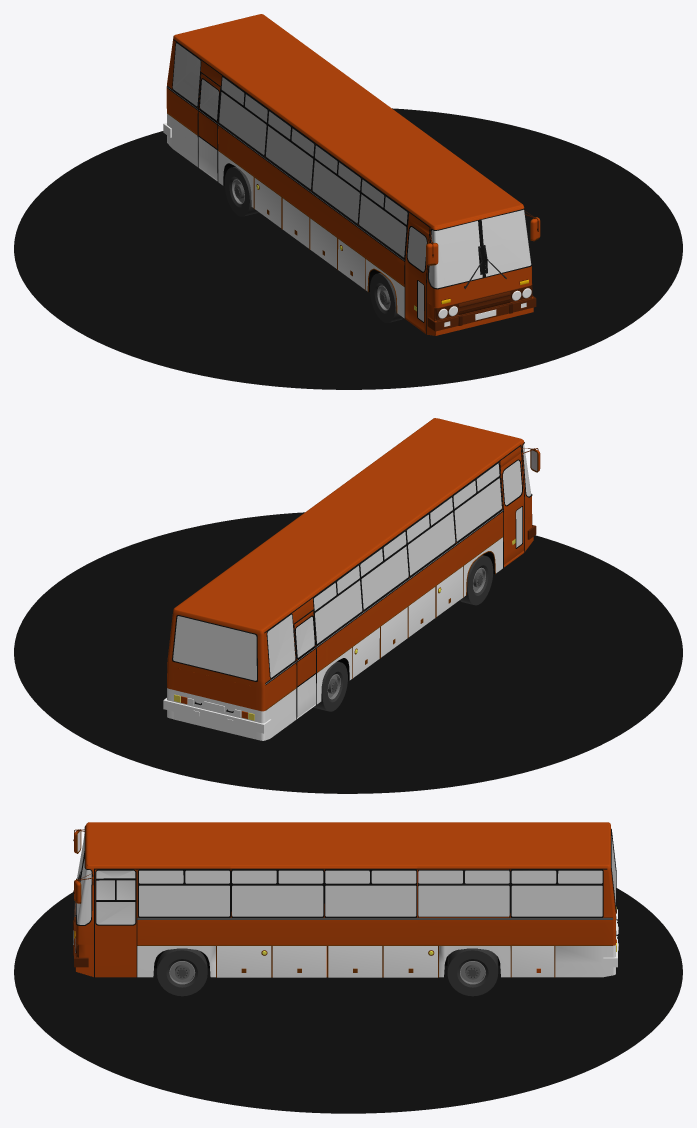
Rendered from Ikarus.fbx.
The picture shows the model from 3 angles, top to bottom: view 1: azimuth 30°, elevation 25°; view 2: azimuth 150°, elevation 25°; view 3: azimuth 270°, elevation 25°; orthographic projection.
Visible parts, largest first — view 1: Cylinder.002, Ikarus_new_body, ikarus_new_roof, ikarus_new_door, ikarus_new_door2, ikarus_new_wheel2, ikarus_new_wheel; view 2: Cylinder.002, Ikarus_new_body, ikarus_new_roof, ikarus_new_back, ikarus_new_door, ikarus_new_door2, ikarus_new_wheel2, ikarus_new_wheel; view 3: Cylinder.002, Ikarus_new_body, ikarus_new_roof, ikarus_new_wheel2, ikarus_new_wheel.
Boxes of the visible parts, x1,y1,x2,y2 form: Cylinder.002: (14, 108, 682, 389); Ikarus_new_body: (166, 36, 540, 335); ikarus_new_roof: (174, 14, 523, 226); ikarus_new_door: (405, 220, 428, 331); ikarus_new_door2: (198, 74, 220, 180); ikarus_new_wheel2: (224, 166, 258, 216); ikarus_new_wheel: (370, 273, 403, 322); Cylinder.002: (14, 512, 682, 793); Ikarus_new_body: (167, 440, 540, 740); ikarus_new_roof: (174, 418, 522, 631); ikarus_new_back: (163, 667, 271, 739); ikarus_new_door: (500, 453, 524, 564); ikarus_new_door2: (294, 611, 316, 717); ikarus_new_wheel2: (313, 661, 347, 711); ikarus_new_wheel: (459, 555, 493, 605); Cylinder.002: (14, 888, 682, 1113); Ikarus_new_body: (73, 823, 616, 977); ikarus_new_roof: (86, 822, 610, 866); ikarus_new_wheel2: (447, 949, 498, 996); ikarus_new_wheel: (157, 949, 207, 996).
Size of the model in its own units: 1458 by 309 by 1458.
2 materials, 1 textured.
